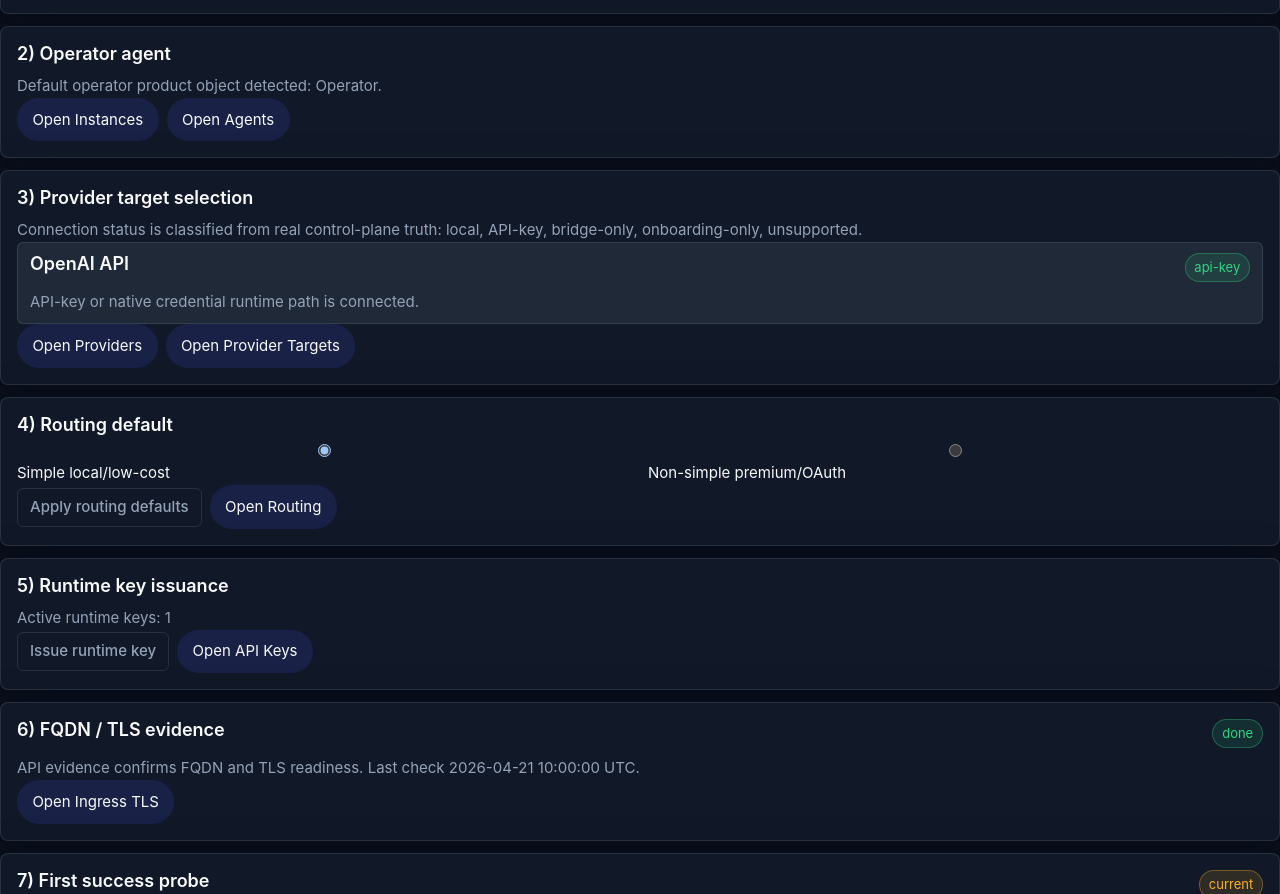
Scenario: Onboarding wizard › applies non-simple routing defaults and runs first-success probe
The width and height of the screenshot is (1280, 894).
(page scrolled)
Click the radio button named "routingChoice" at (956, 451), box [648, 444, 1263, 457]
(page scrolled)
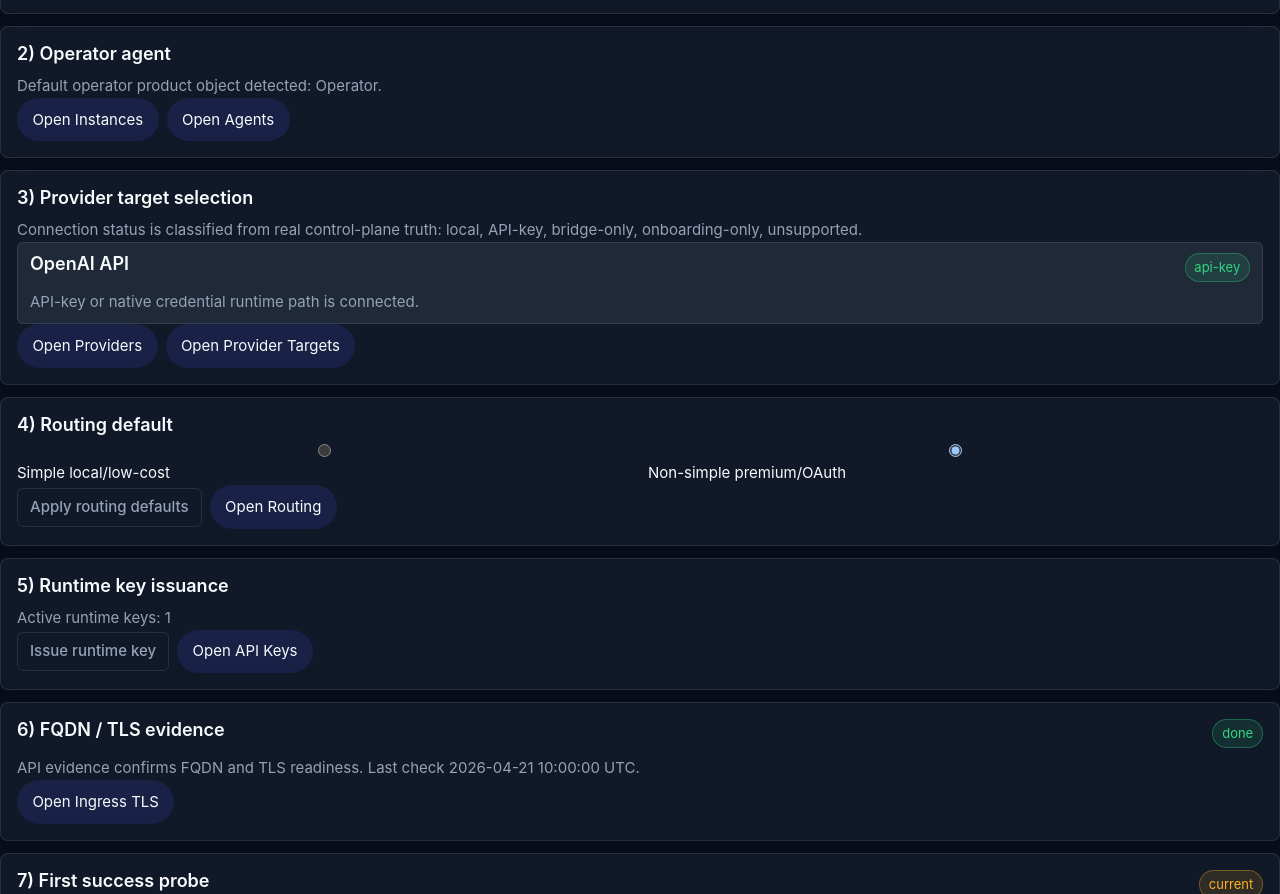
Click the button "Apply routing defaults" at (109, 507), box [17, 488, 202, 527]
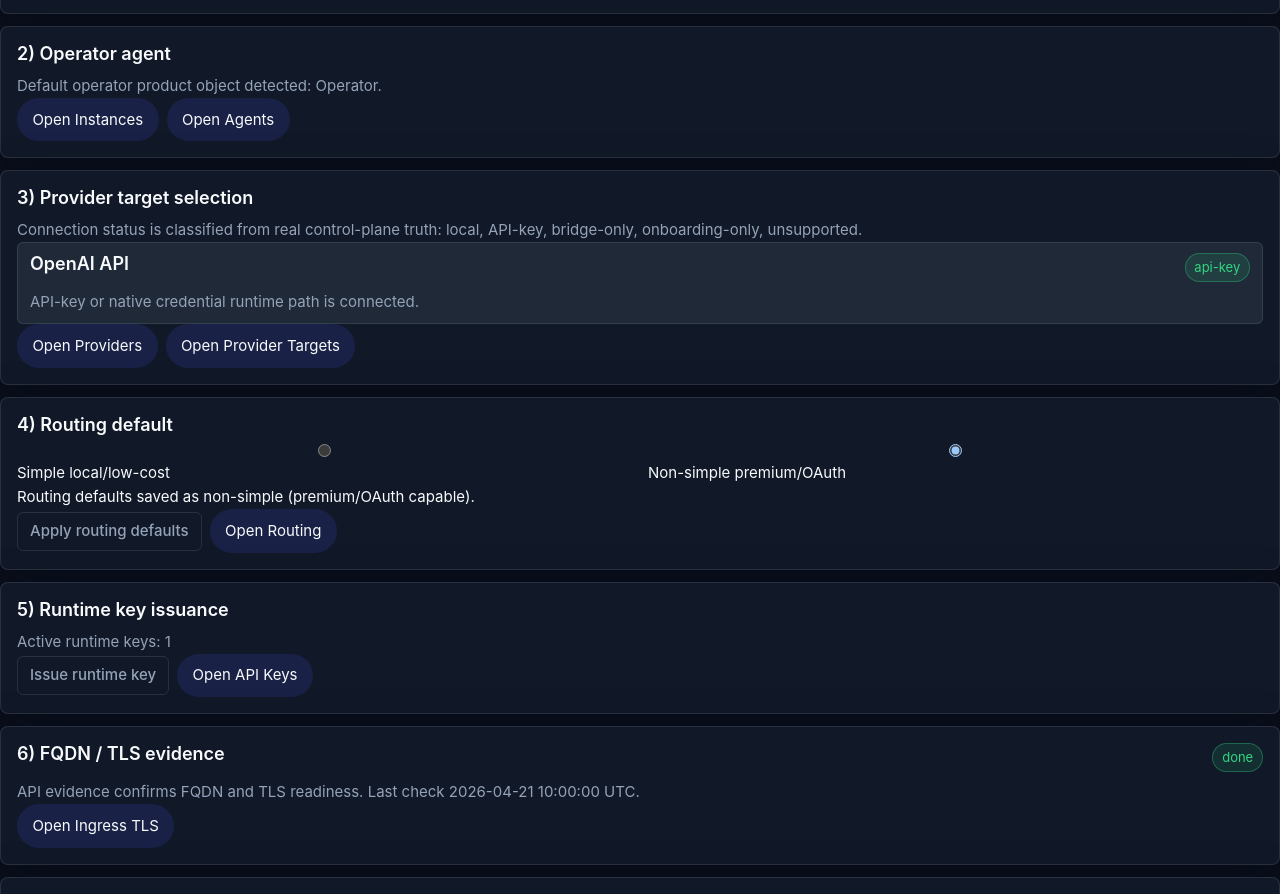
Check: the text "Routing defaults saved as non-simple" is shown, box [17, 487, 475, 506]
Click the button "Issue runtime key" at (93, 675), box [17, 656, 169, 695]
(page scrolled)
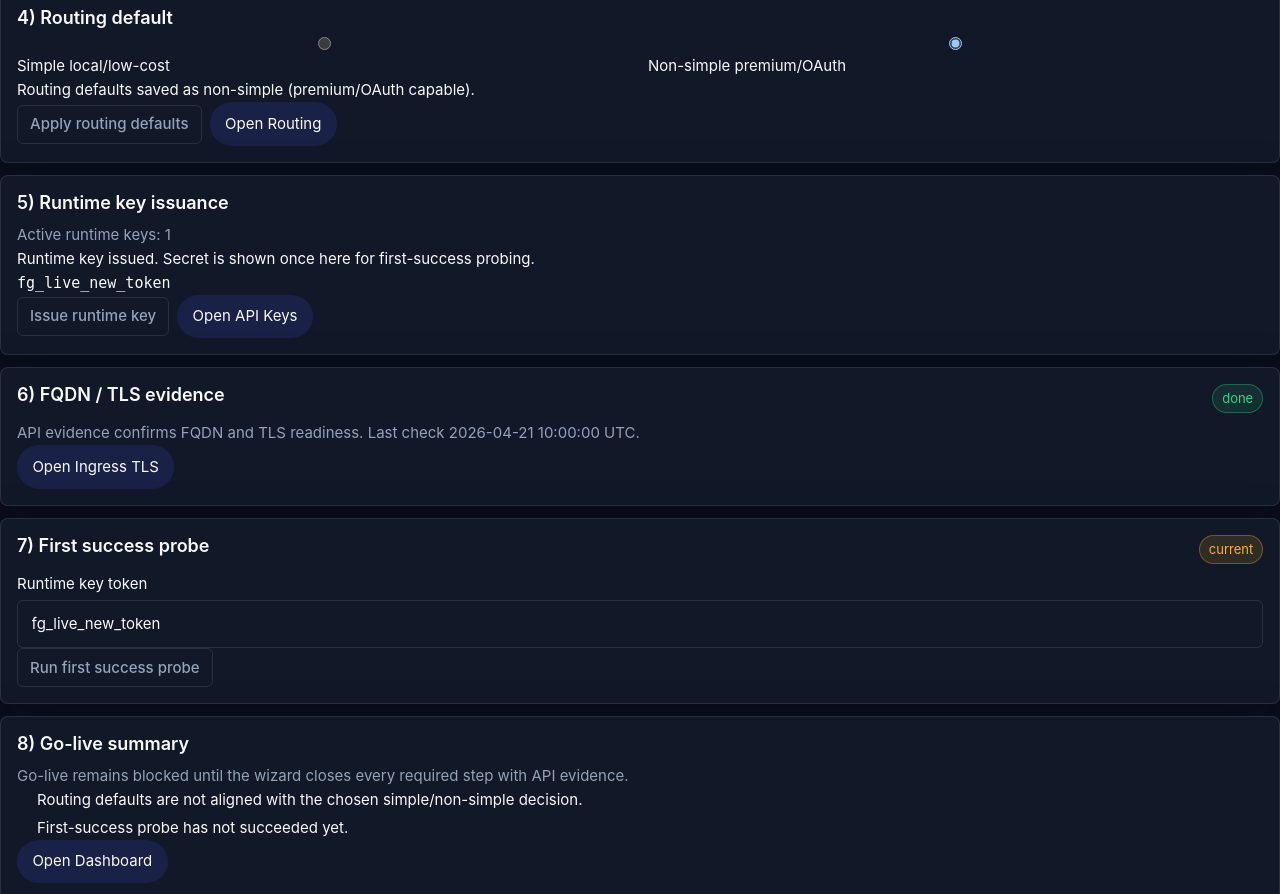
Check: the text "fg_live_new_token" is shown, box [17, 274, 170, 292]
Click the button "Run first success probe" at (115, 668), box [17, 648, 213, 687]
(page scrolled)
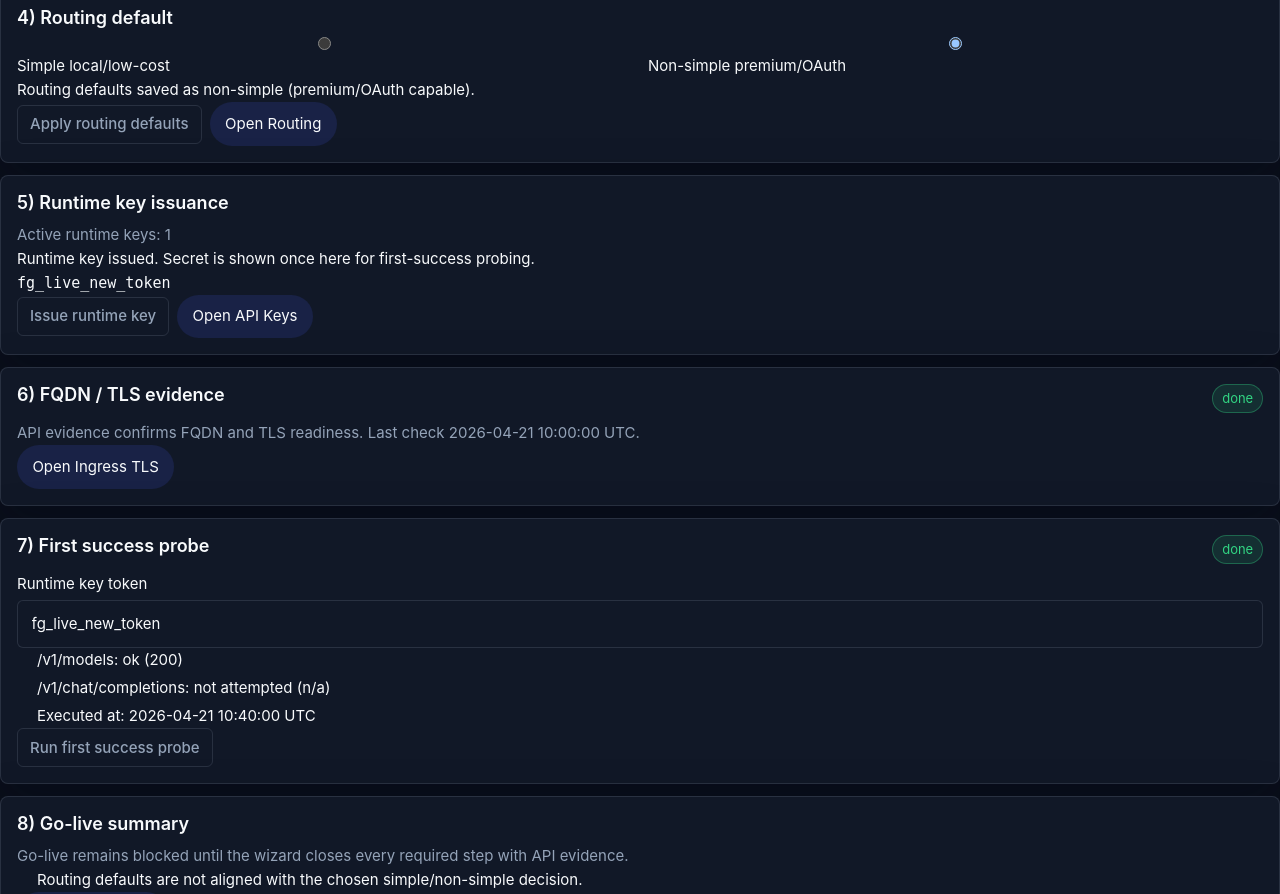
Check: the text "/v1/models: ok (200)" is shown, box [37, 650, 183, 669]
